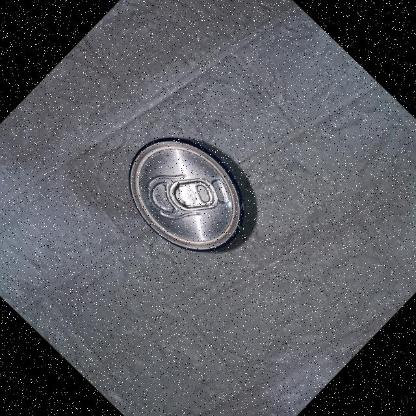Can: (130, 130, 246, 260)
